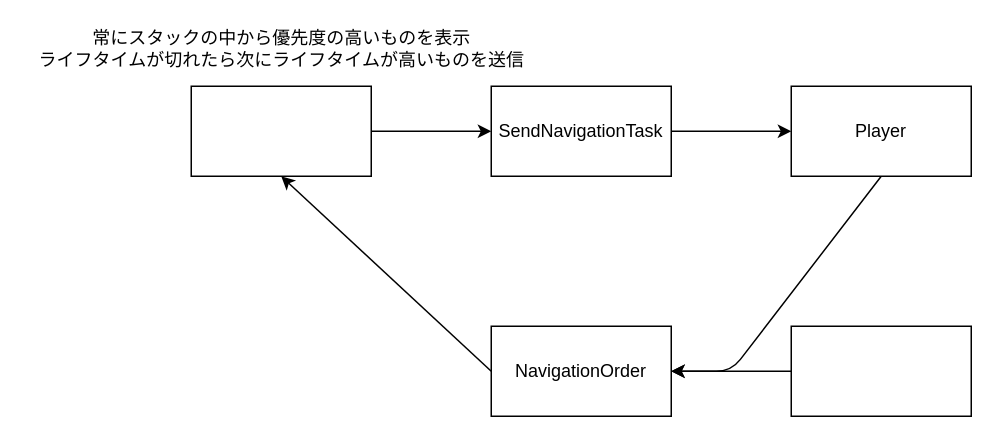
Some shapes in this 998 by 443 pixel diagram are drawn without their labels. Each missing label, with the centre of its shape:
"NavigationPool" goes at point 280,130.
"NavigationType" goes at point 880,370.
